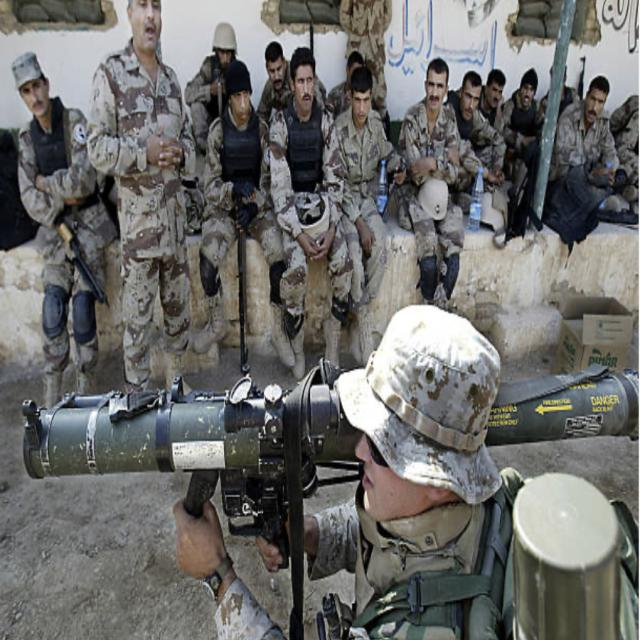bazooka: (22, 363, 640, 490)
